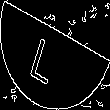L_NE: (38, 26, 72, 84)
